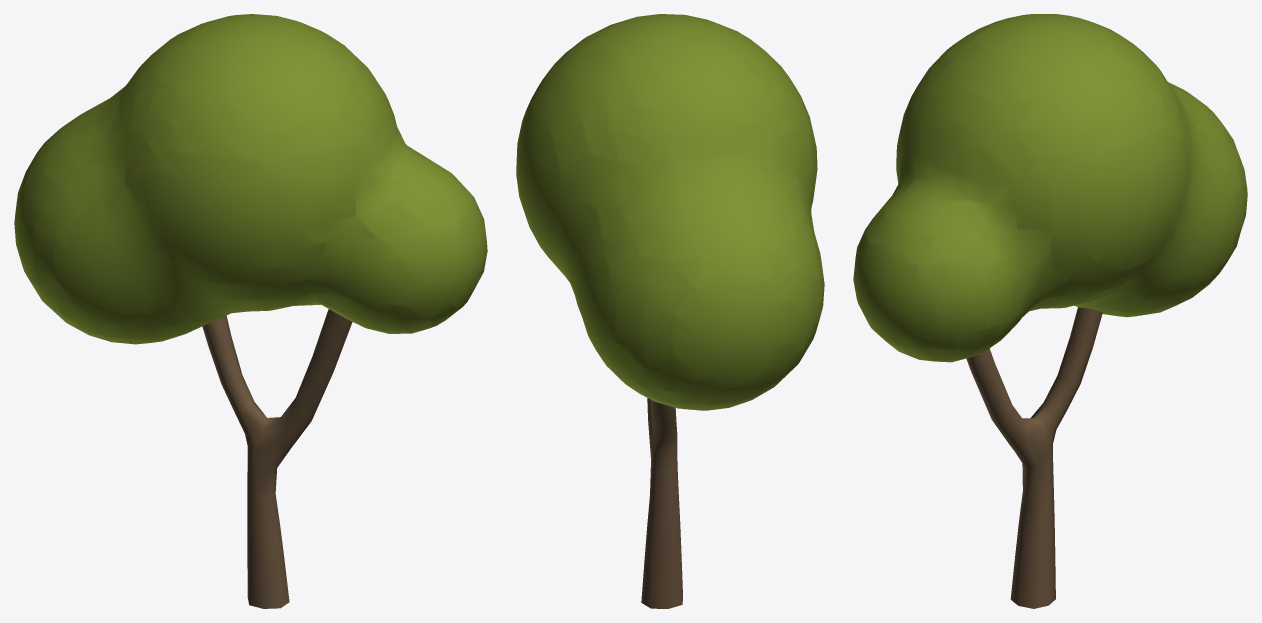
File: Tree4_Env.fbx
3 views of the same model, side by side, from view 1: azimuth 30°, elevation 25°; view 2: azimuth 150°, elevation 25°; view 3: azimuth 270°, elevation 25° (orthographic). The views are drawn at different scales.
Parts seen in each view (by area): view 1: Tree_3.001; view 2: Tree_3.001; view 3: Tree_3.001.
Boxes of the visible parts, bbox=[...] form: Tree_3.001: bbox=[14, 14, 487, 608]; Tree_3.001: bbox=[516, 14, 824, 608]; Tree_3.001: bbox=[853, 14, 1247, 608].
Bounding box in the file's own units: 145 × 224 × 141.
